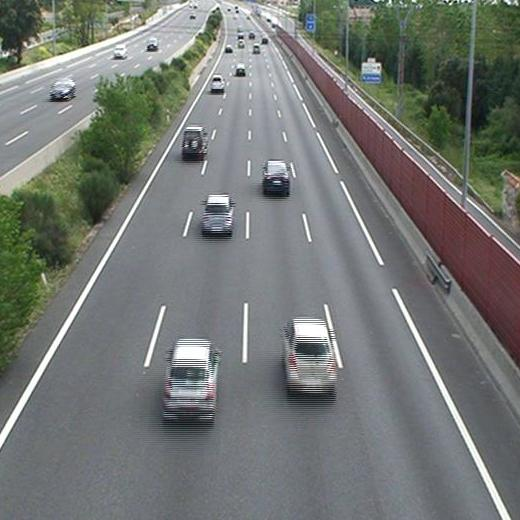car: (283, 319, 336, 392), (164, 340, 215, 413), (201, 195, 233, 232), (263, 160, 290, 190), (182, 129, 206, 155), (210, 76, 224, 90), (234, 63, 246, 74), (237, 40, 245, 48), (251, 45, 260, 52), (224, 45, 233, 52)
